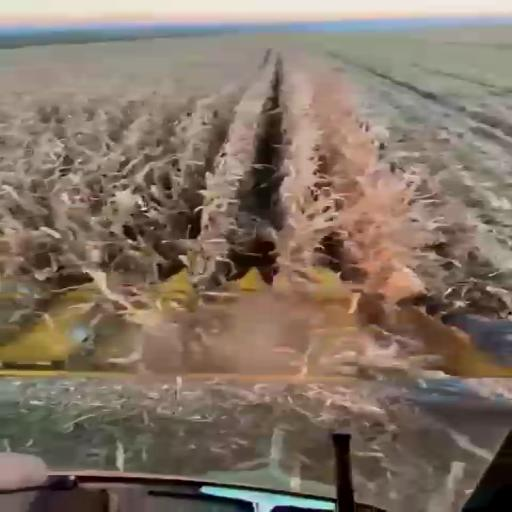misir: (1, 40, 512, 474)
